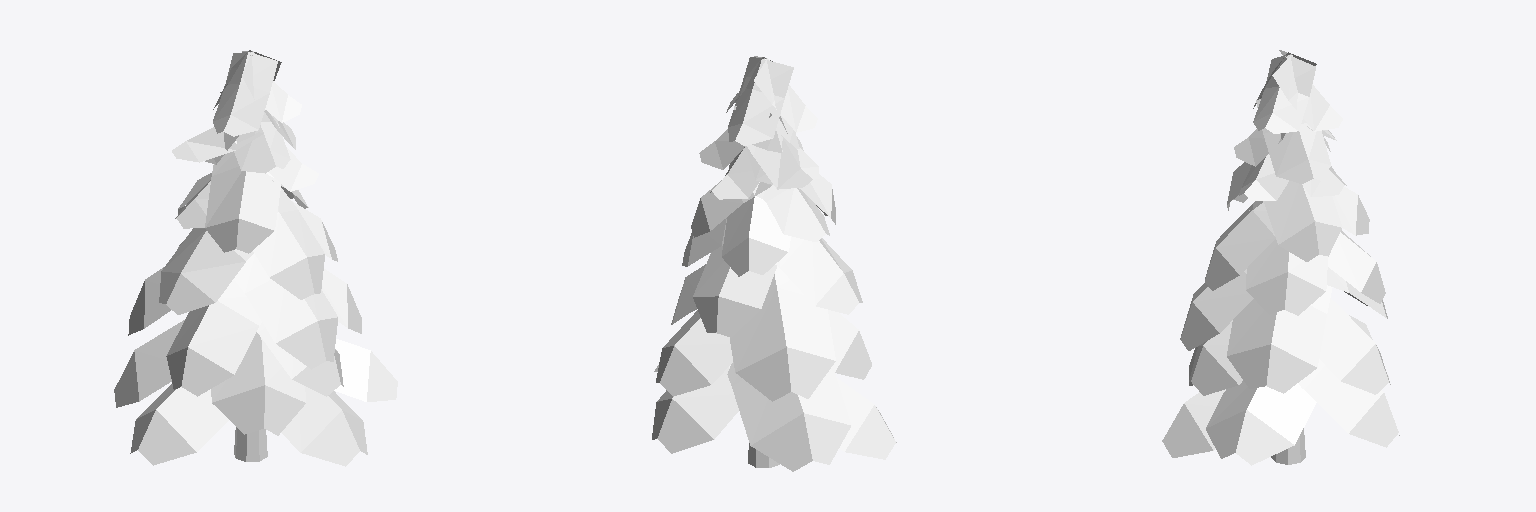
The model's file is pom.obj.
The picture shows the model from 3 angles: view 1: azimuth 30°, elevation 25°; view 2: azimuth 150°, elevation 25°; view 3: azimuth 270°, elevation 25°; orthographic projection.
Parts seen in each view (by area): view 1: node_id33, node_id31; view 2: node_id33; view 3: node_id33, node_id31.
Boxes of the visible parts, x1,y1,x2,y2 form: node_id33: [114, 50, 397, 466]; node_id31: [234, 52, 267, 461]; node_id33: [652, 56, 896, 471]; node_id33: [1162, 50, 1399, 465]; node_id31: [1271, 55, 1305, 464].
Size of the model in its own units: 0.3268 by 0.512 by 0.2755.